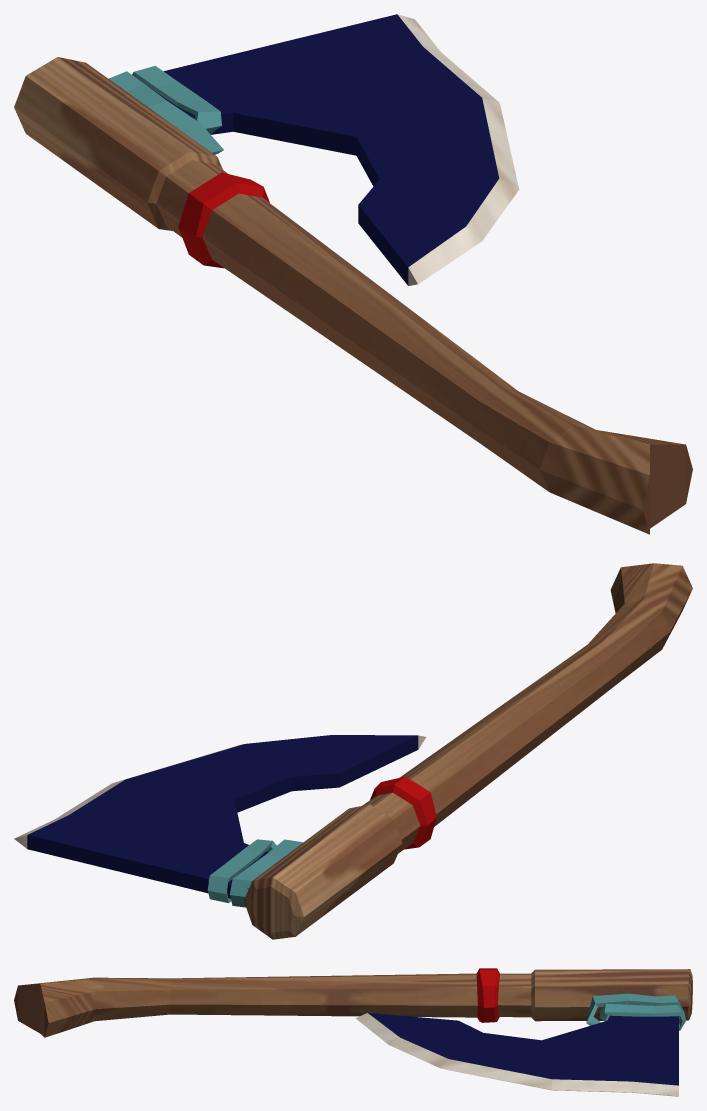
File: riu viking.fbx
3 renders of one model, top to bottom at view 1: azimuth 30°, elevation 25°; view 2: azimuth 150°, elevation 25°; view 3: azimuth 270°, elevation 25°, orthographic. The views are drawn at different scales.
Visible parts, largest first — view 1: riu_viking; view 2: riu_viking; view 3: riu_viking.
Boxes of the visible parts, box(x1,y1,x2,y2) form: riu_viking: box(14, 14, 692, 534); riu_viking: box(14, 563, 692, 939); riu_viking: box(14, 968, 692, 1096).
Bounding box in the file's own units: 1.27 × 0.2696 × 3.21.
Materials: 1 (1 with a texture image).
